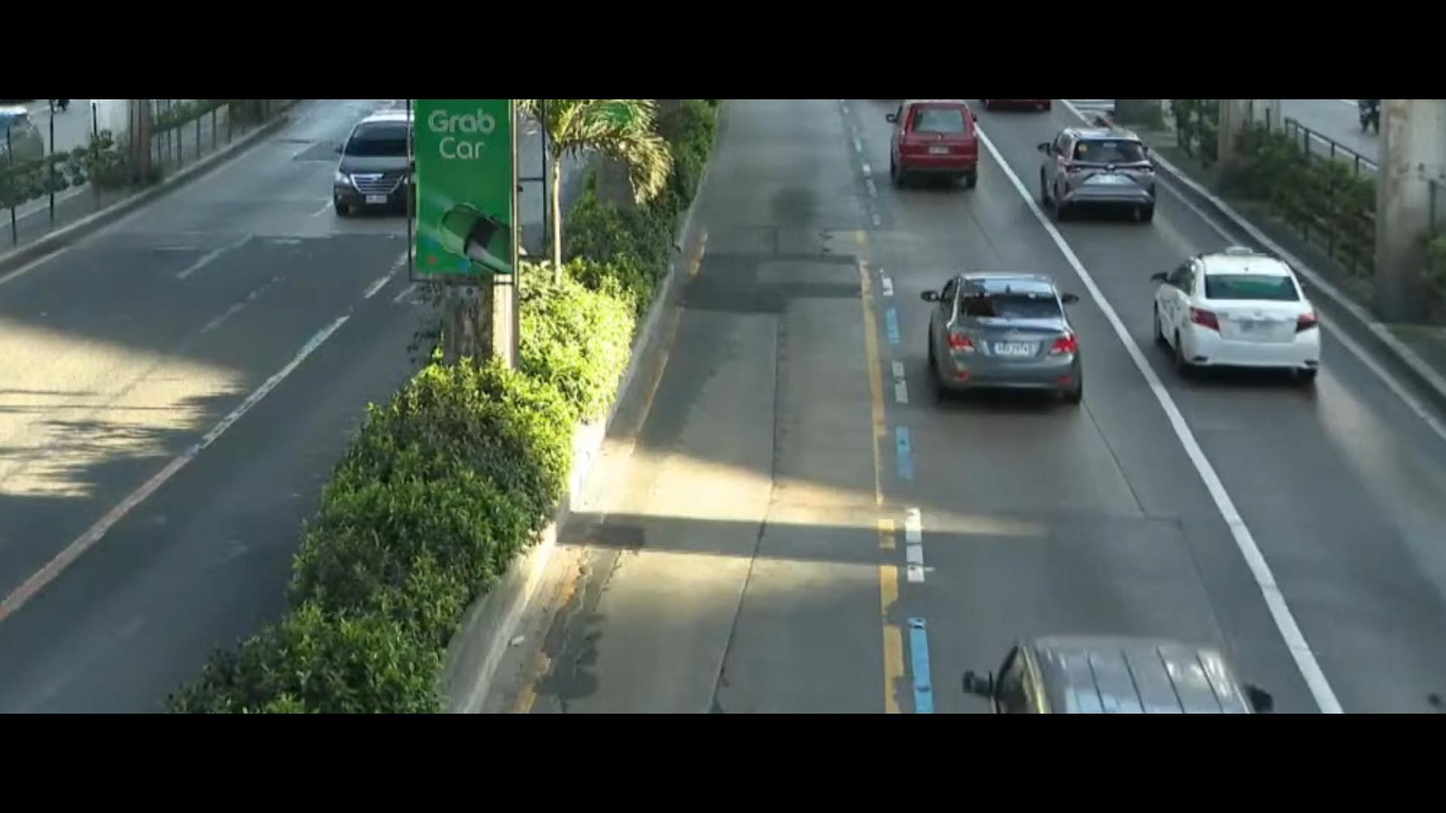SUV: (315, 104, 431, 229), (1050, 117, 1177, 229), (882, 108, 992, 187)
Sedan: (908, 253, 1106, 409), (1164, 232, 1348, 394)
